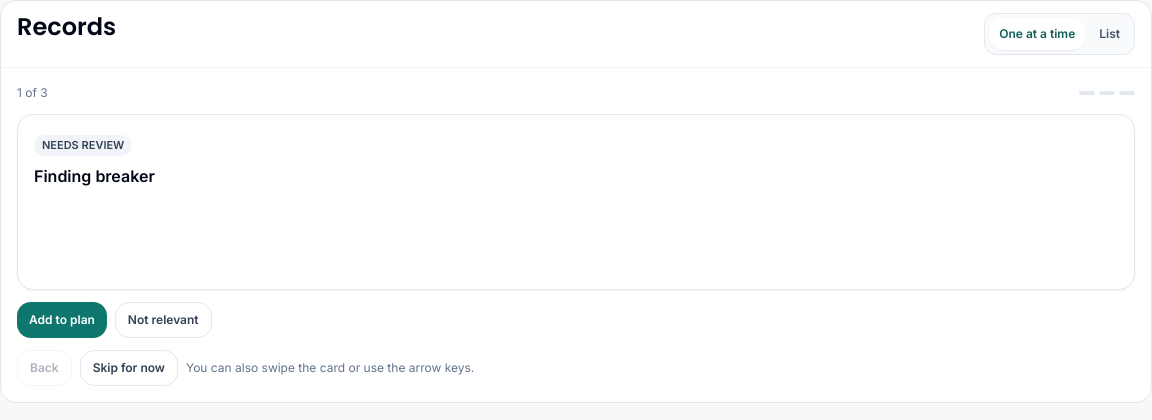
Test case: card deck › one card at a time: an action is sent and the next card shows; Skip sends nothing; Back revisits
The width and height of the screenshot is (1152, 420).
Check: the text "1 of 3" is shown, box [17, 84, 48, 102]
Click the button "Add to plan": (62, 320) [17, 302, 107, 338]
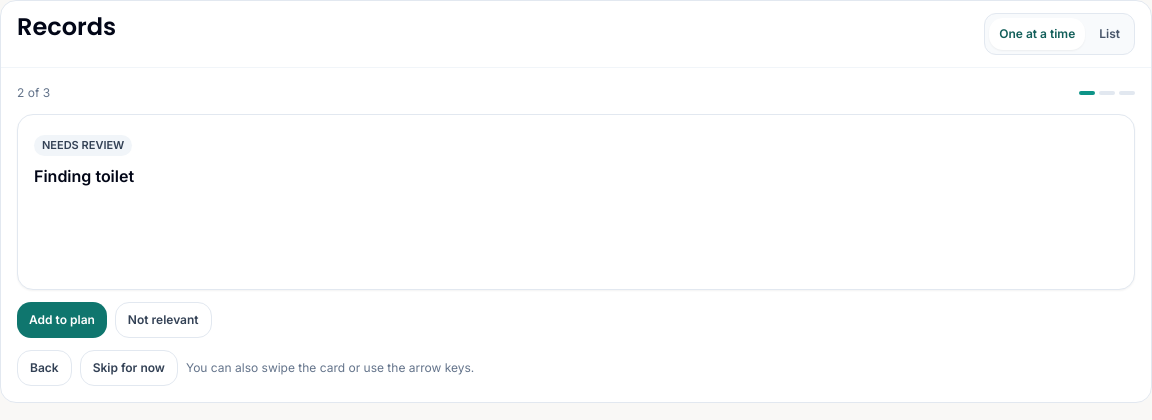
Check: the text "2 of 3" is shown, box [17, 84, 50, 102]
Click the button "Skip for now": (129, 368) [80, 350, 178, 386]
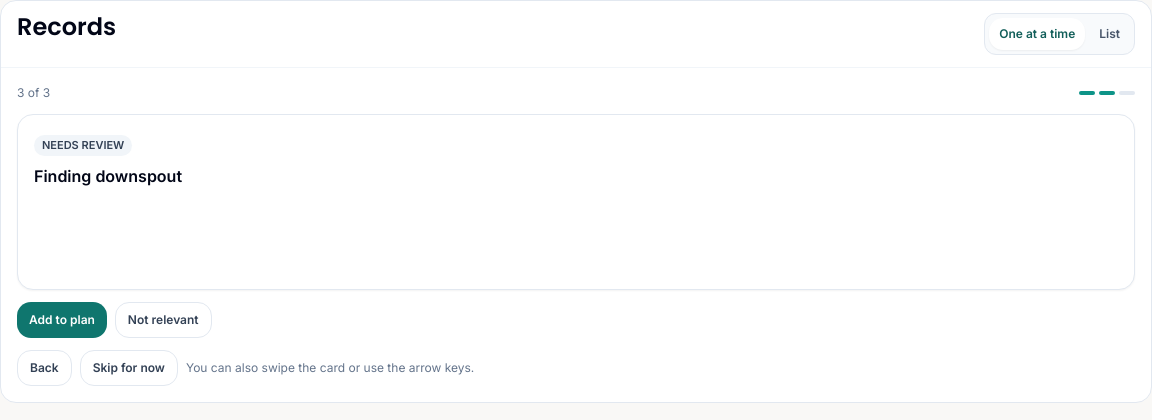
Check: the text "3 of 3" is shown, box [17, 84, 50, 102]
Click the button "Back": (44, 368) [17, 350, 72, 386]
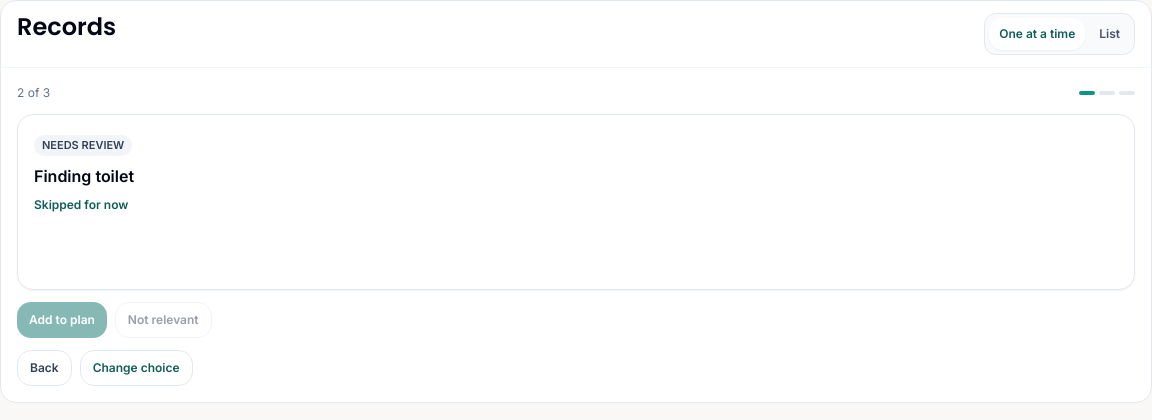
Check: the text "Skipped for now" is shown, box [34, 197, 128, 212]
Check: the button "Add to plan" is disabled, box [17, 302, 107, 338]
Click the button "Change choice": (136, 368) [80, 350, 192, 386]
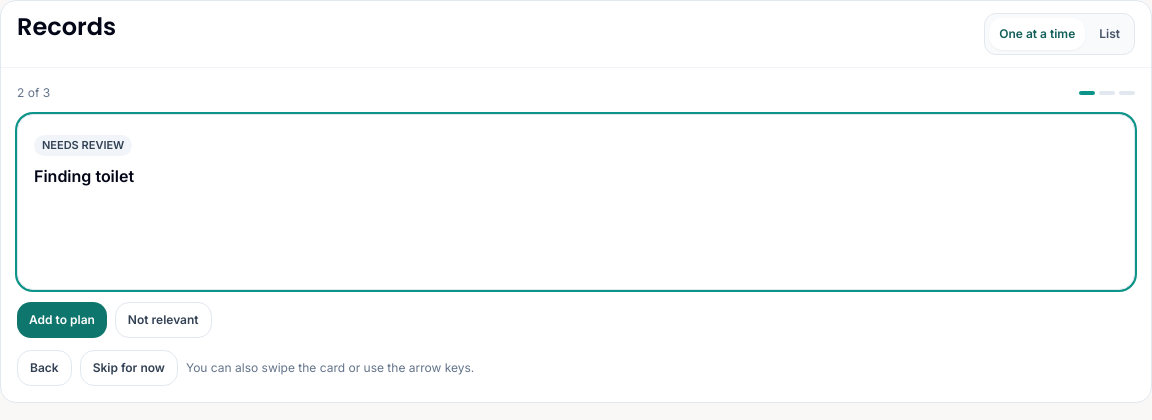
Check: the button "Add to plan" is enabled, box [17, 302, 107, 338]
